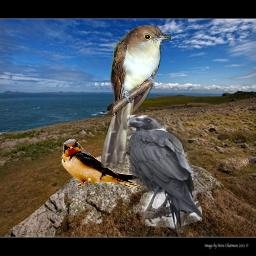Crow: (127, 115, 202, 233)
Cuckoo: (101, 24, 171, 168)
Swallow: (60, 139, 150, 194)
